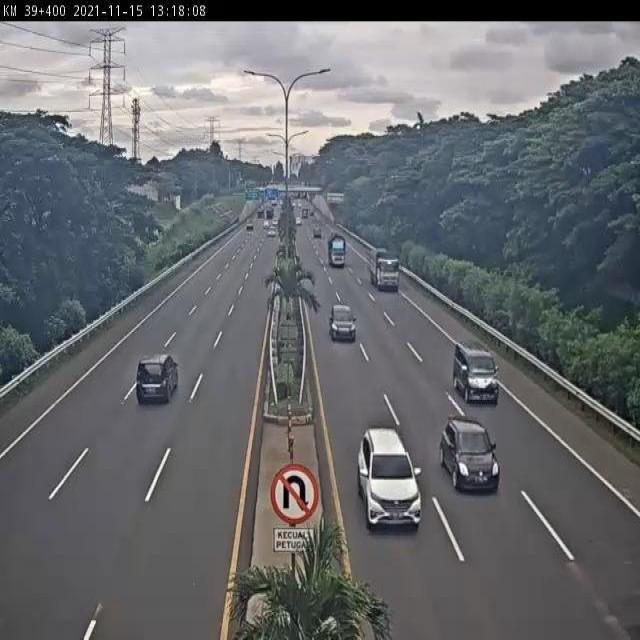car: (355, 426, 423, 530), (440, 416, 500, 495), (452, 339, 501, 404), (134, 351, 180, 404), (329, 301, 358, 343)
